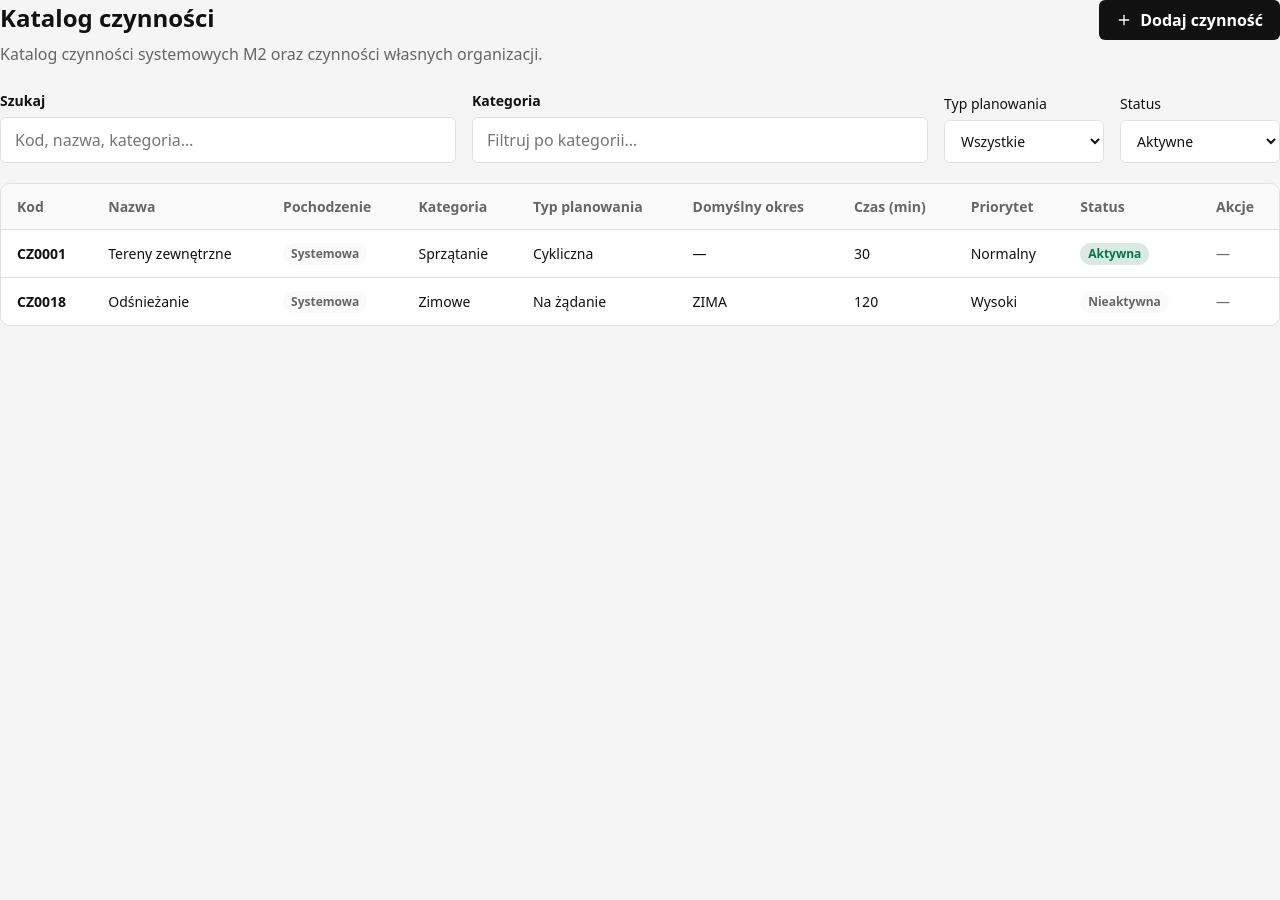
it: ActivitiesPage › validates create form required fields
This screenshot has width=1280, height=900.
Expected: the text "CZ0001" is shown, [1, 230, 92, 278]
What coordinates should you click on to do the following:
click the button "Dodaj czynność"
I would click on:
 (1190, 20)
Its box is [1099, 0, 1279, 40].
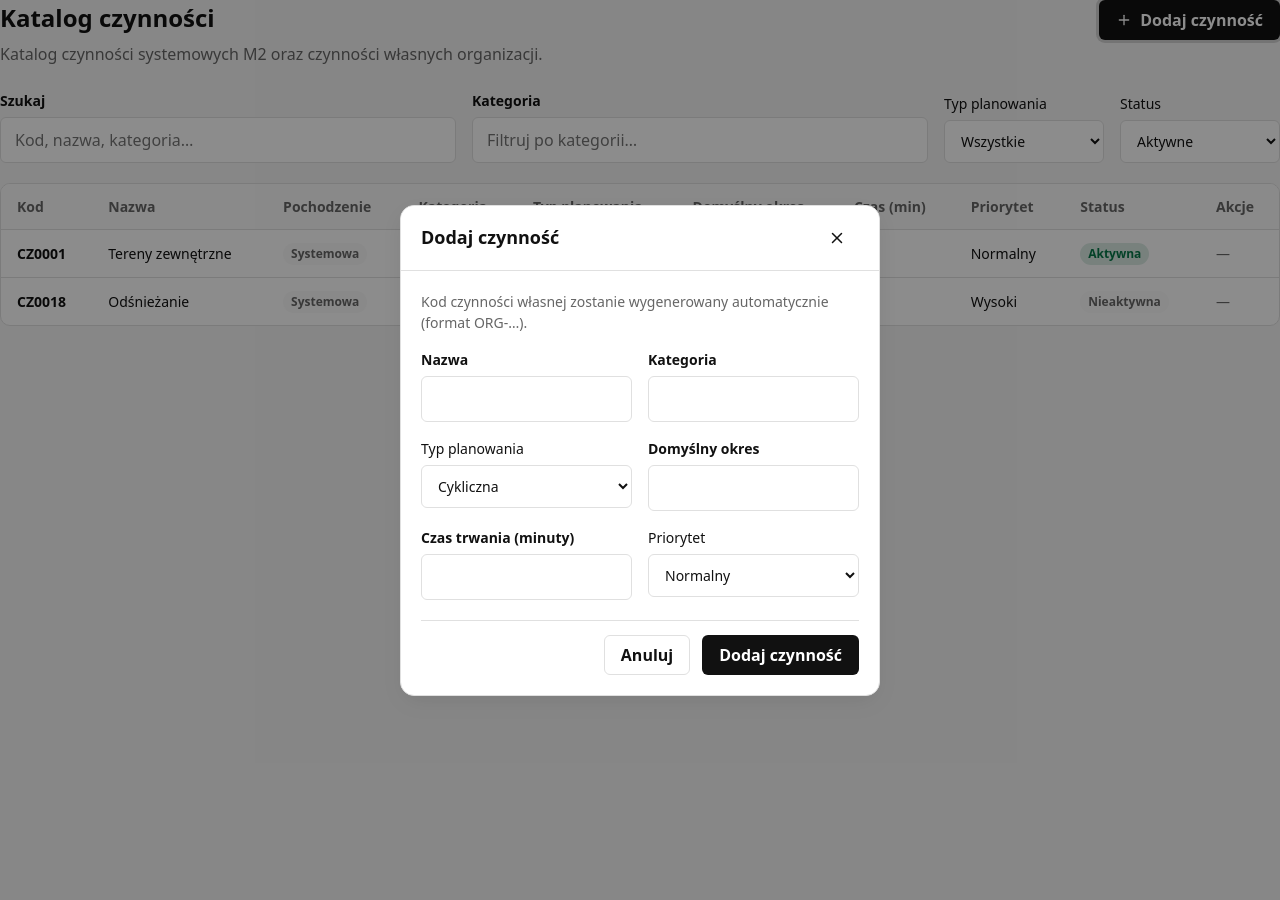
What coordinates should you click on to do the following:
click the button "Dodaj czynność"
I would click on:
 (781, 654)
Its box is [702, 634, 859, 674].
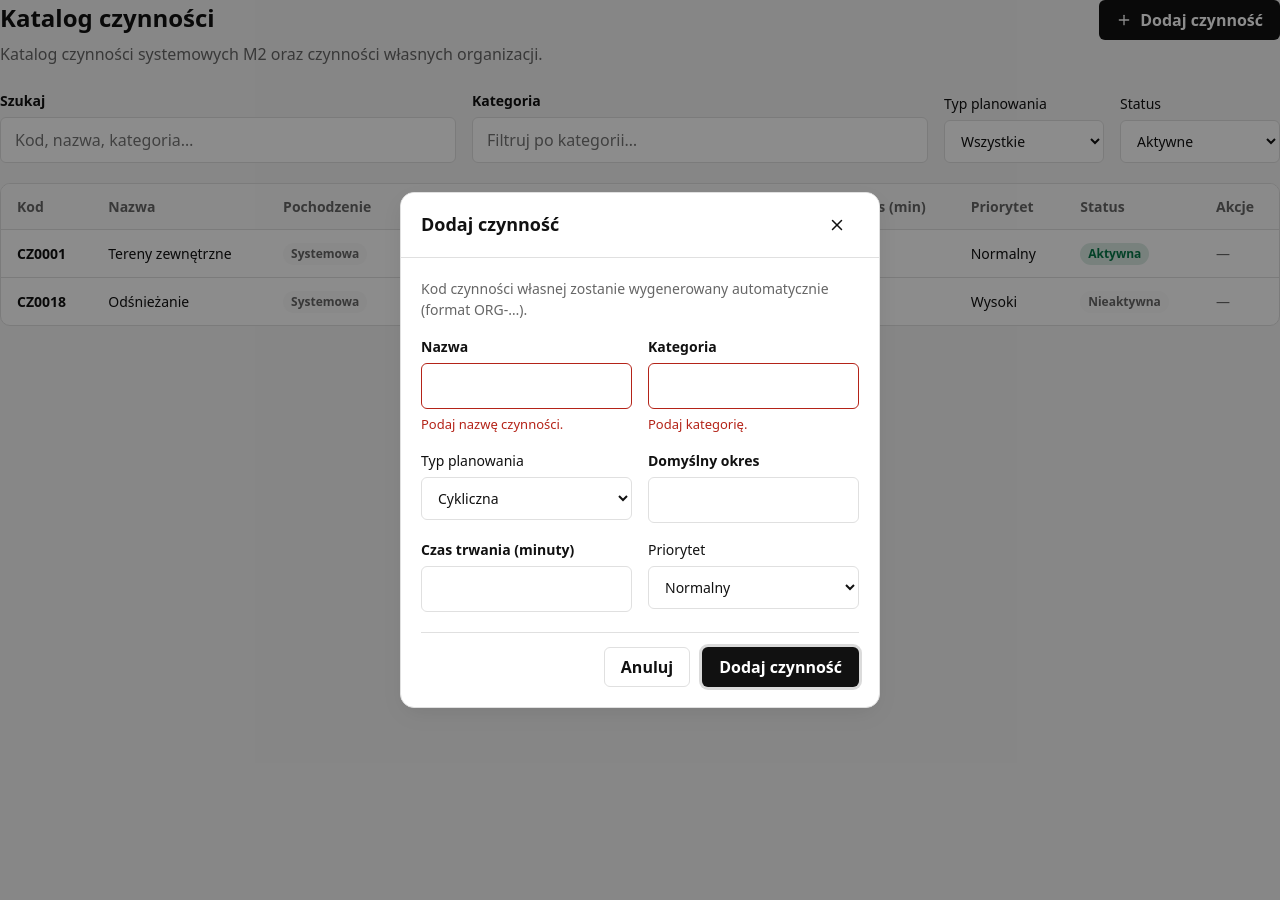
Expected: the text "Podaj nazwę czynności." is shown, [421, 415, 563, 433]
Expected: the text "Podaj kategorię." is shown, [648, 415, 747, 433]
